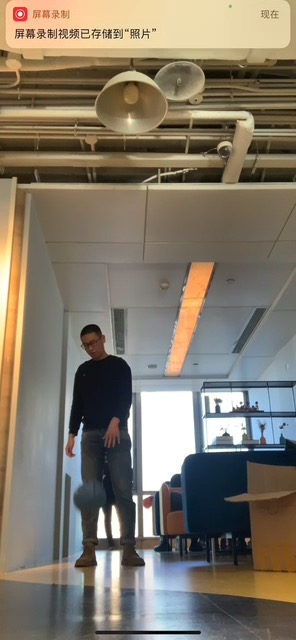ball: (72, 481, 105, 513)
